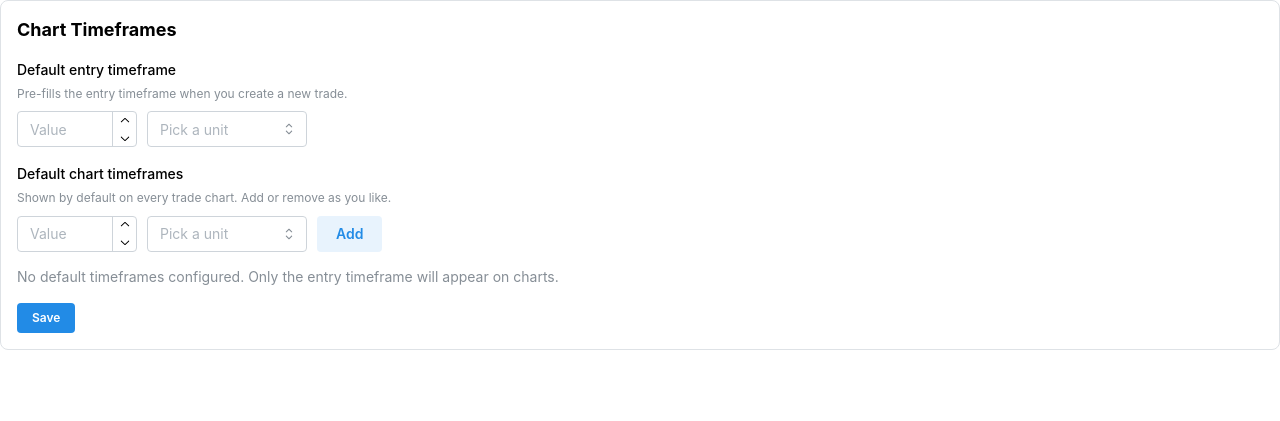
Test: ChartTimeframesCard › adds a timeframe to the list
The image size is (1280, 421).
In the field named "Default chart timeframes": (77, 234) [17, 216, 137, 252], type "5"
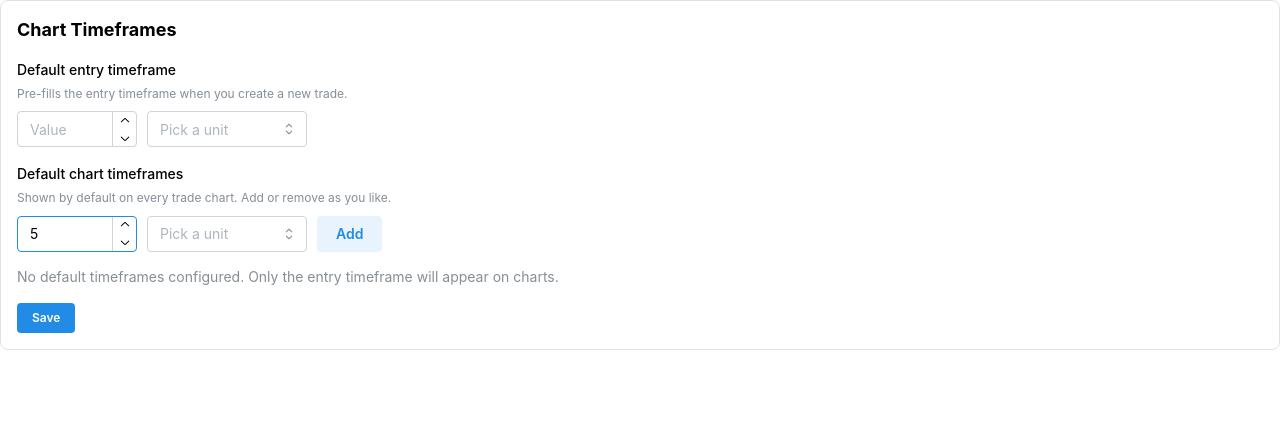
Click the field with placeholder "Pick a unit" below "Default chart timeframes": (227, 234) [147, 216, 307, 252]
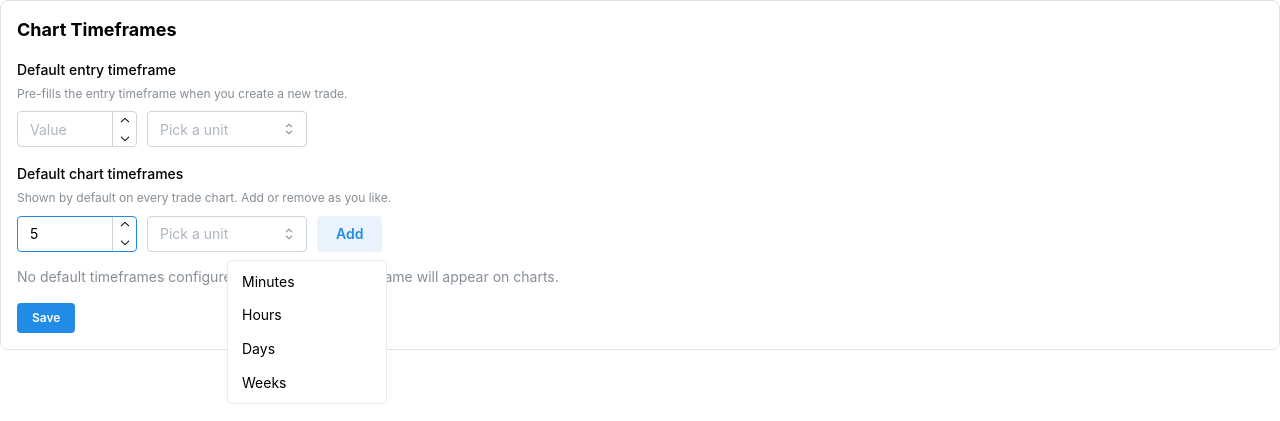
Click the option "Minutes": (268, 281) [242, 273, 295, 290]
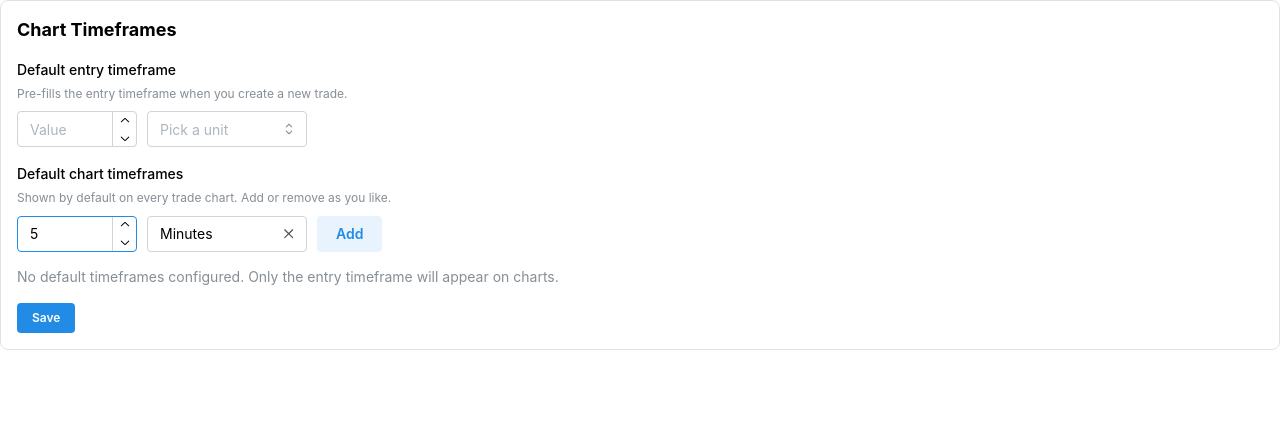
Click the button "Add": (350, 234) [317, 216, 382, 252]
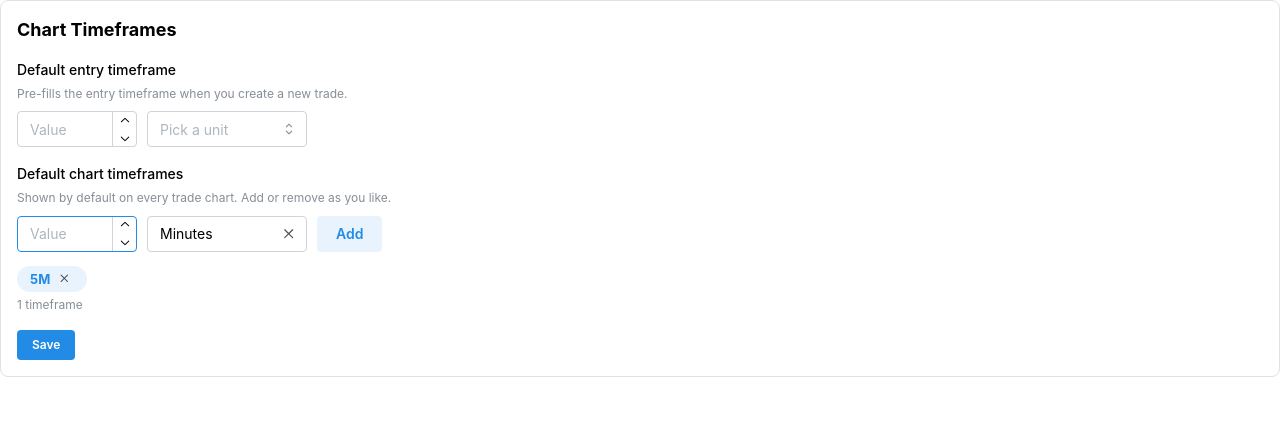
Result: the text "5m" is shown at [30, 267, 51, 291]
Result: the text "1 timeframe" is shown at [17, 297, 83, 312]
